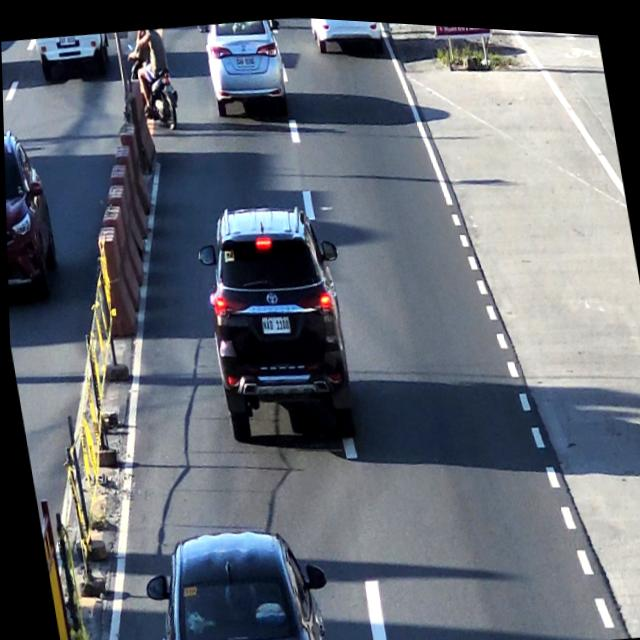Car: (193, 195, 355, 437), (142, 513, 328, 640), (199, 12, 291, 121), (311, 14, 387, 54)
License-Plate: (260, 308, 290, 335), (235, 50, 256, 66)
Motorcycle: (116, 24, 183, 130)
